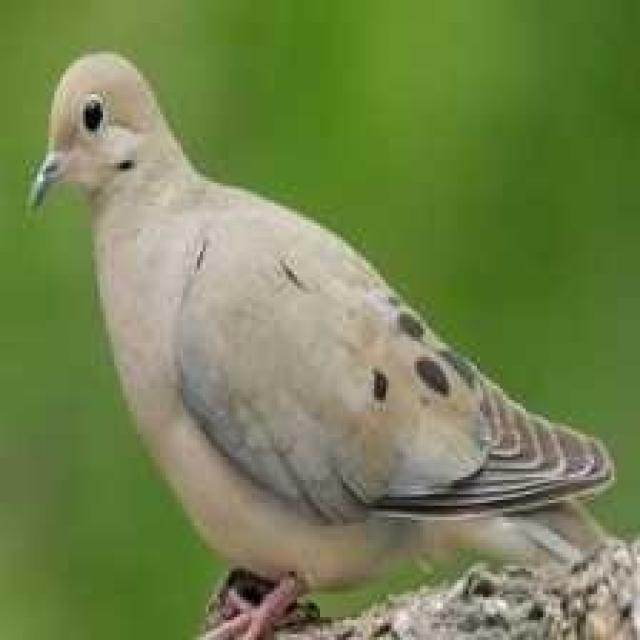bird: (19, 44, 640, 639)
